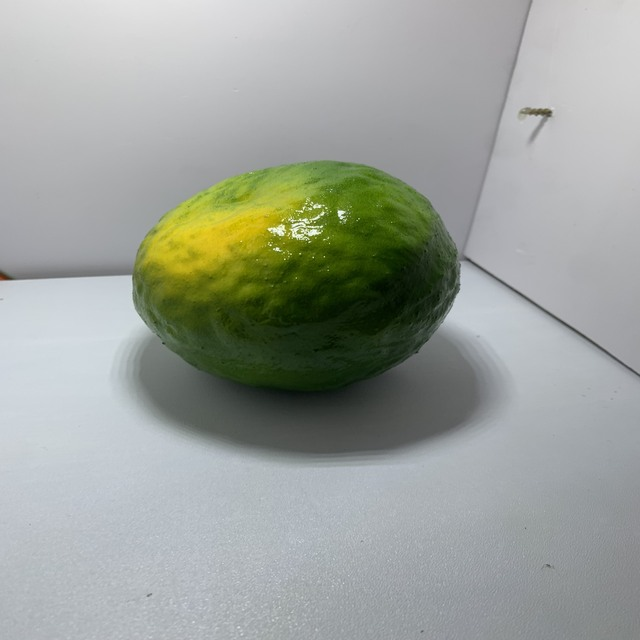Cam xanh: (128, 158, 469, 403)
